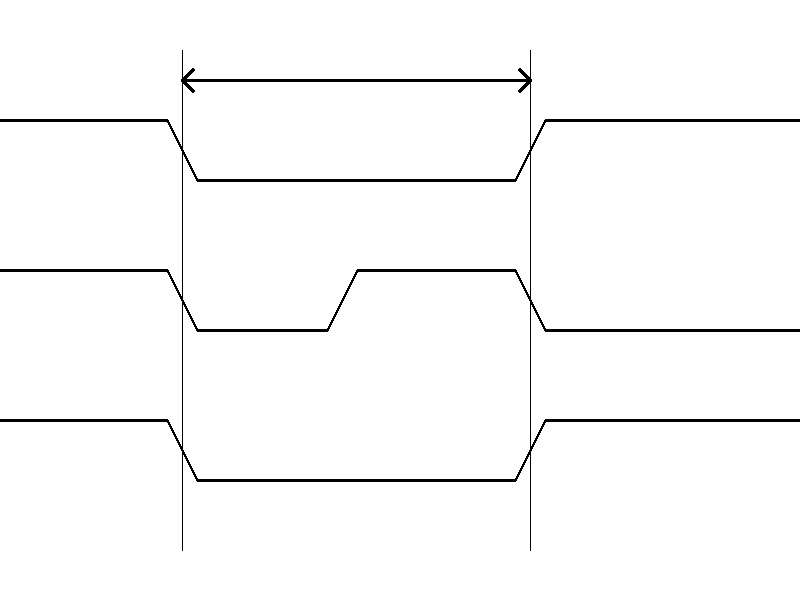double_arrow: (182, 65, 530, 95)
